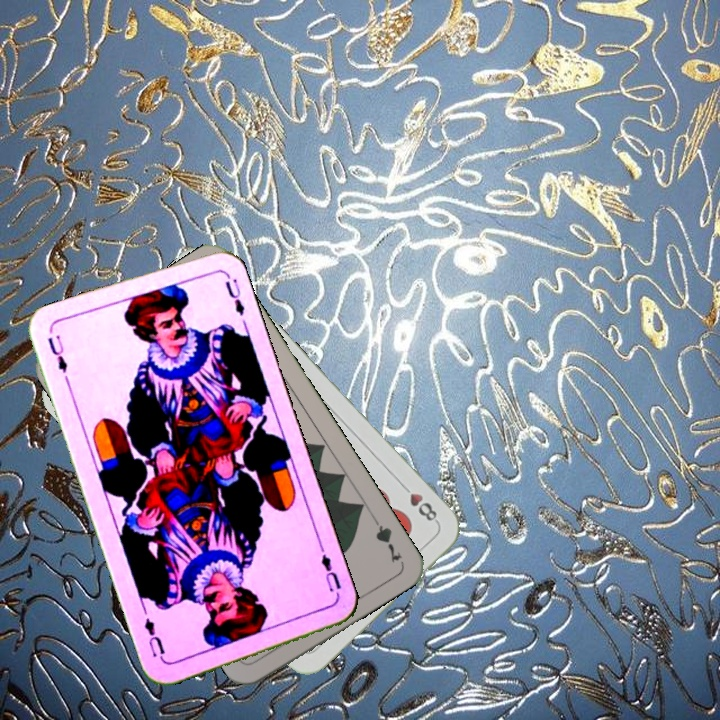EU: (316, 543, 344, 595), (43, 330, 70, 376)
G7: (366, 510, 405, 566)
H8: (396, 479, 441, 526)
